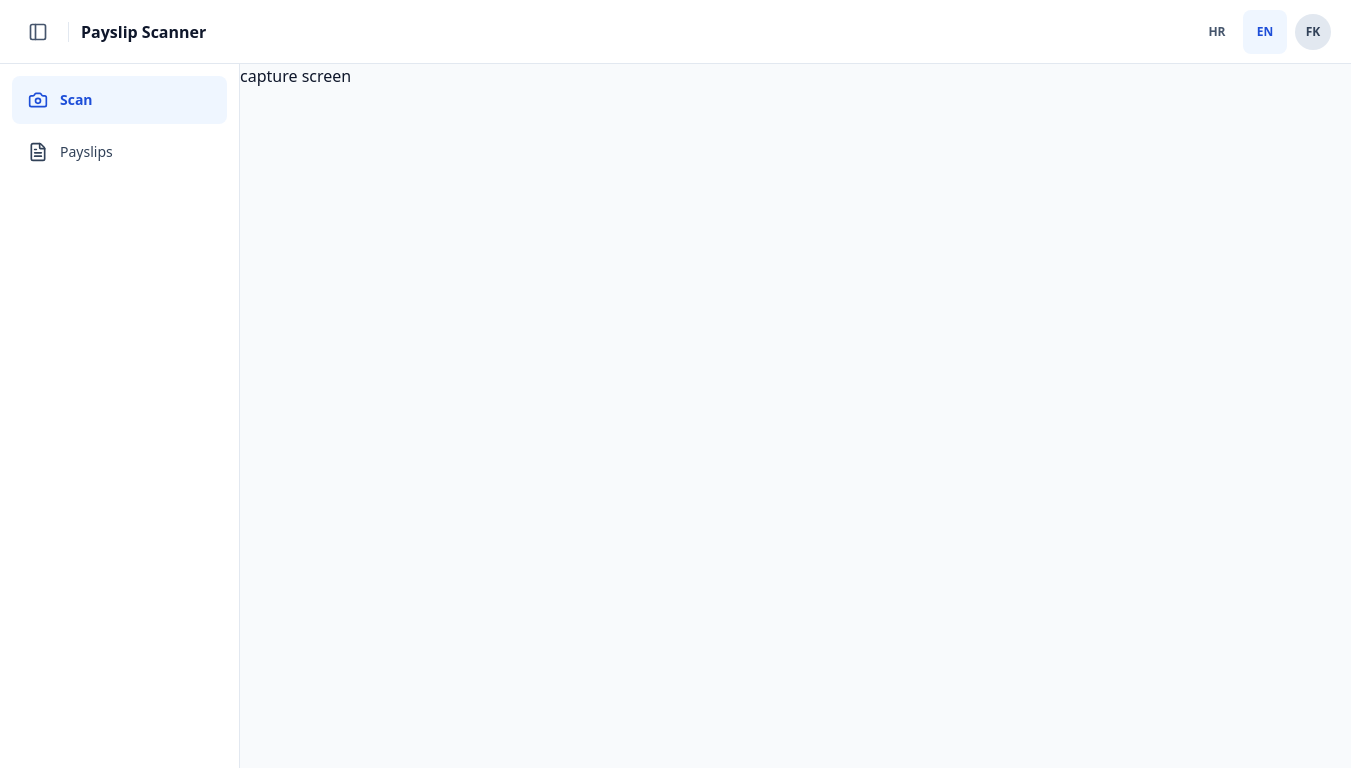
Test: AppLayout › collapsible sidebar (Task 15 D6) › renders expanded and still toggles when storage throws
The width and height of the screenshot is (1366, 768).
Step 1. Click the button named "Collapse menu" → x=38, y=32, box [16,10,60,54]
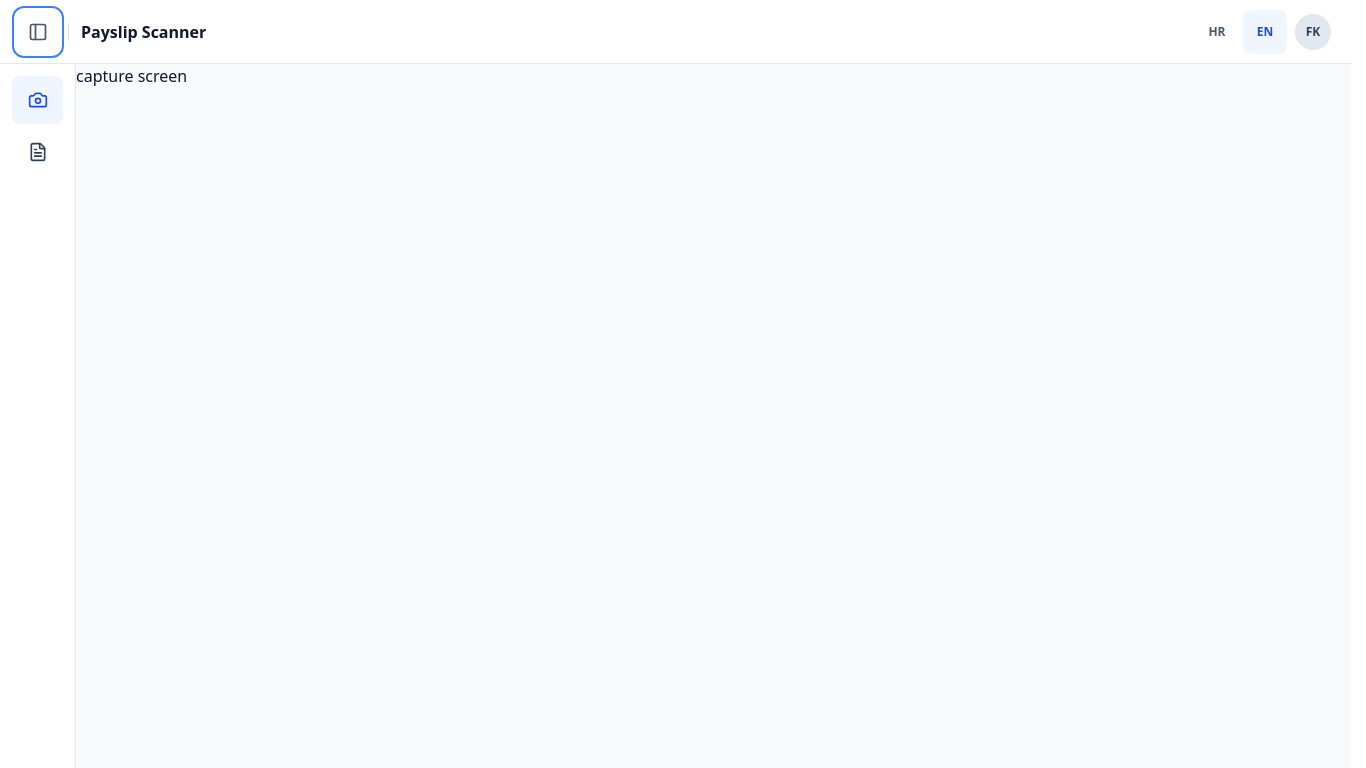
Now the button named "Expand menu" is shown, box [16,10,60,54]
